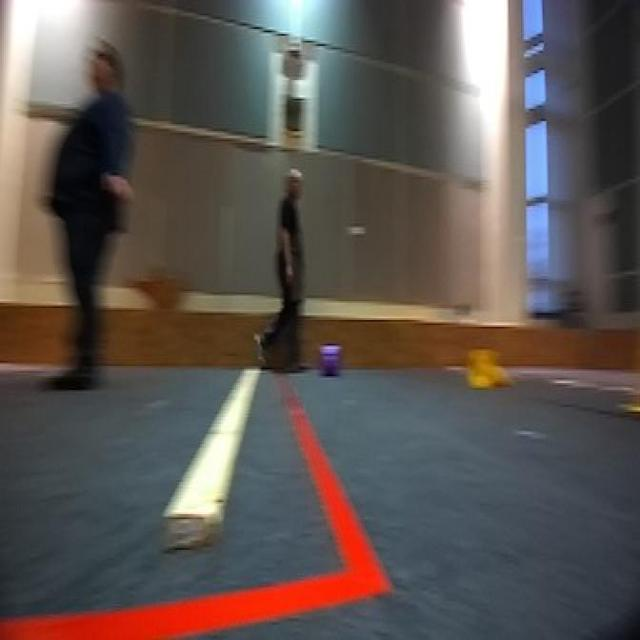frc_cone: (472, 349, 516, 391)
frc_cube: (320, 346, 341, 376)
